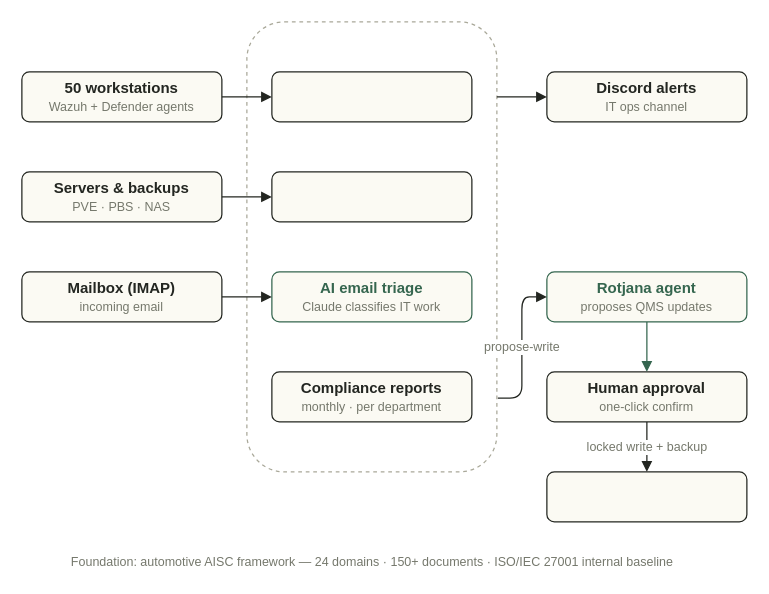
The diagram is 769 pixels wide and 594 high, and some of its shapes have lost their labels. The shapes that lost their labels are listed below. From the top down, each one's box as (x1, y1, x2, y2) in pixels, then its label:
(271, 71, 472, 122): Infra health checks CPU · RAM · storage
(271, 171, 472, 222): Backup monitoring snapshots · disk space
(246, 21, 497, 472): n8n AUTOMATION
(546, 471, 747, 522): QMS registers controlled Excel documents
